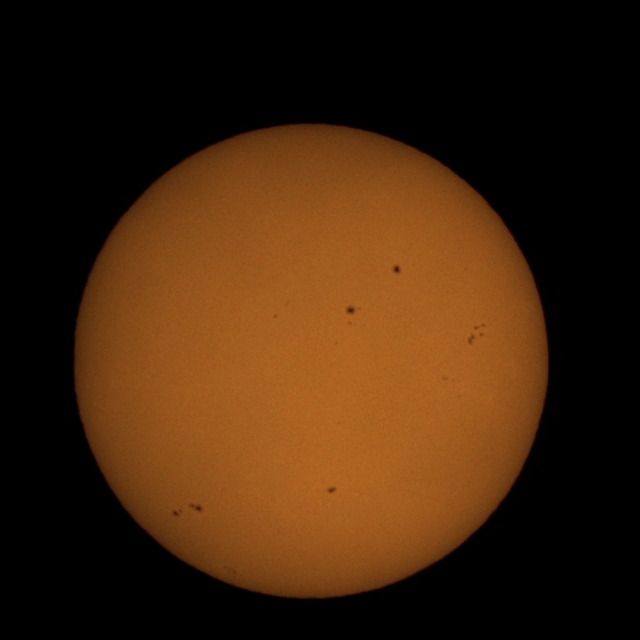sunspot: (172, 501, 203, 518), (467, 323, 487, 346), (344, 304, 362, 326), (187, 501, 204, 514), (172, 506, 184, 518), (391, 264, 402, 275), (326, 485, 337, 495), (272, 314, 278, 320), (463, 266, 468, 272), (334, 340, 339, 346)
